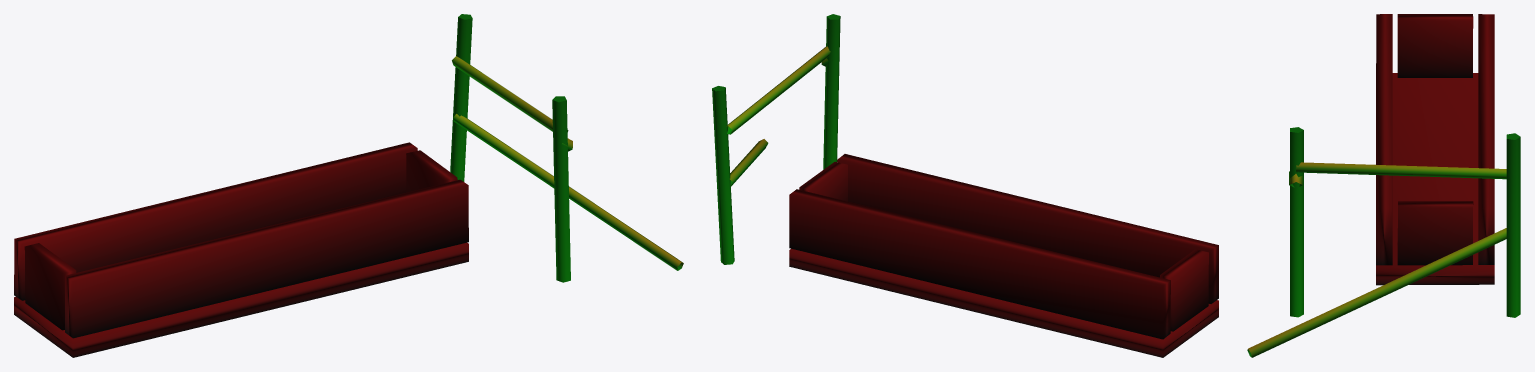
The model's file is woolback_trough.glb.
3 views of the same model, side by side, from view 1: azimuth 30°, elevation 25°; view 2: azimuth 150°, elevation 25°; view 3: azimuth 270°, elevation 25° (orthographic). The views are drawn at different scales.
Visible parts, largest first — view 1: woolback_trough; view 2: woolback_trough; view 3: woolback_trough.
Part boxes in pixels (x1,y1,x2,y2): woolback_trough: [14, 14, 683, 357]; woolback_trough: [712, 14, 1218, 357]; woolback_trough: [1247, 14, 1520, 357].
Size of what is drawn, in the model's own units: 4.11 by 1.31 by 1.76.
